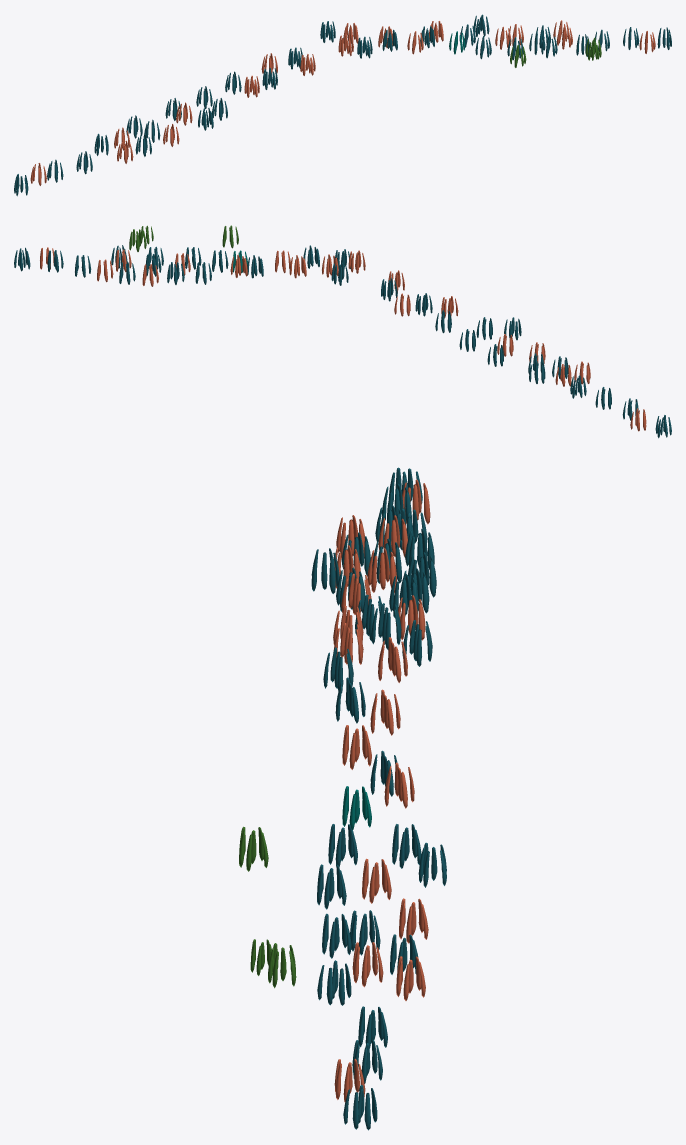
File: street-grass.fbx
3 renders of one model, top to bottom at view 1: azimuth 30°, elevation 25°; view 2: azimuth 150°, elevation 25°; view 3: azimuth 270°, elevation 25°, orthographic. The views are drawn at different scales.
Bounding box in the file's own units: 130 × 17.84 × 18.09.
